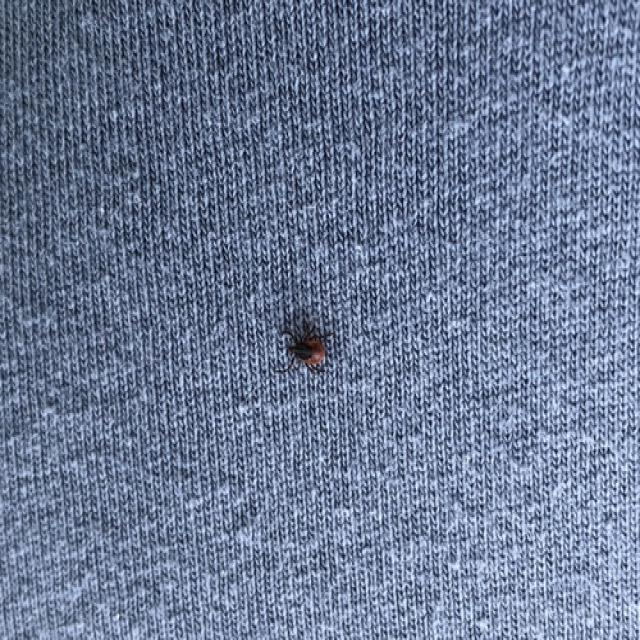Ixodes Ricinus-F: (275, 317, 332, 375)
